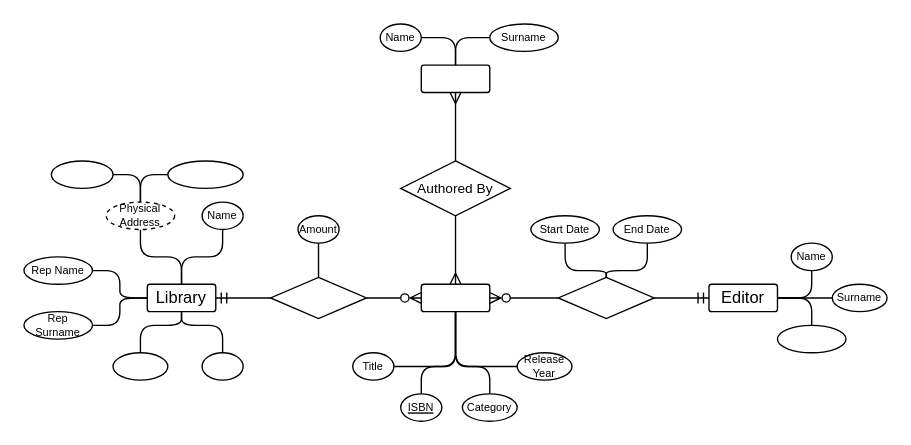
This 911x445 diagram has some shape labels left out. The shapes that lost their labels are listed below. From the top down, each one's box as (x1, y1, x2, y2) in pixels, then its label:
(420, 64, 490, 92): Author
(50, 160, 113, 188): Post Code
(166, 160, 243, 188): Street Name
(269, 276, 366, 319): Supplied
(420, 283, 490, 312): Book
(557, 276, 654, 319): Edited By
(776, 324, 846, 353): Birth Date
(112, 351, 168, 380): Phone Number
(201, 351, 243, 380): Email
